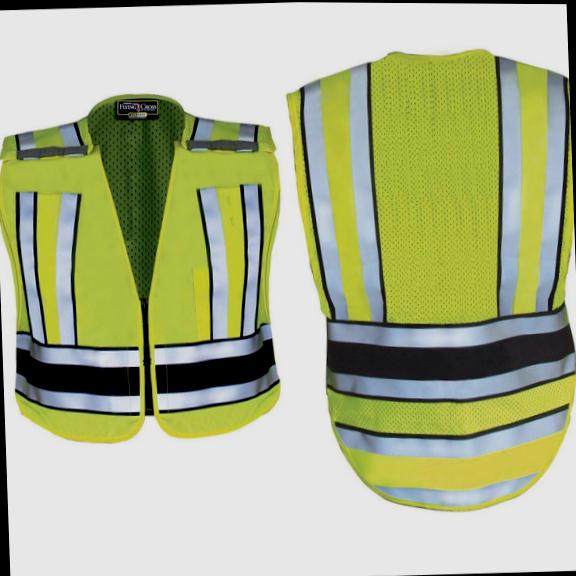safety_vest: (281, 43, 576, 517), (0, 80, 289, 450)
